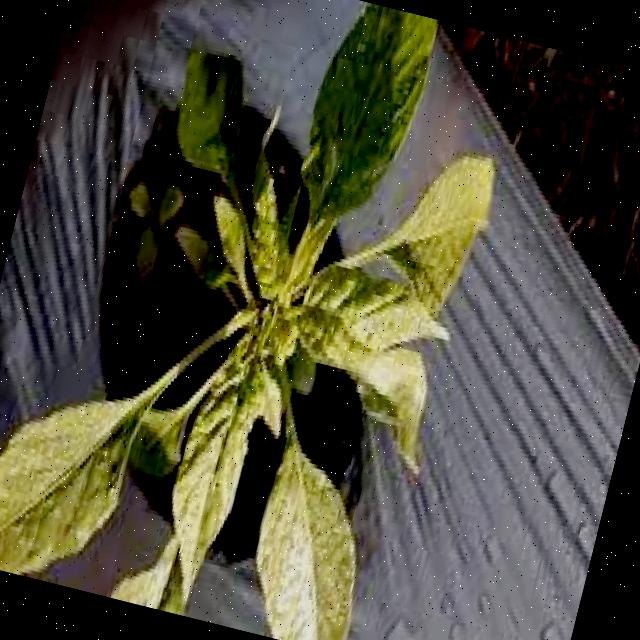yellow: (0, 51, 517, 640)
